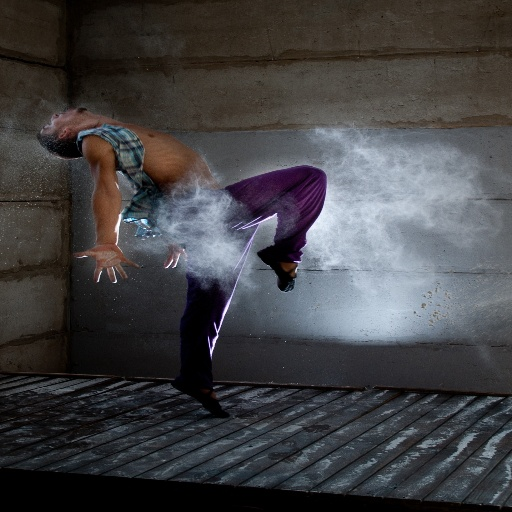hand: (82, 231, 127, 282), (162, 241, 191, 269)
